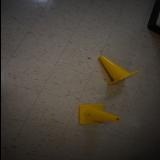cone: (98, 56, 138, 86), (78, 104, 120, 124)
